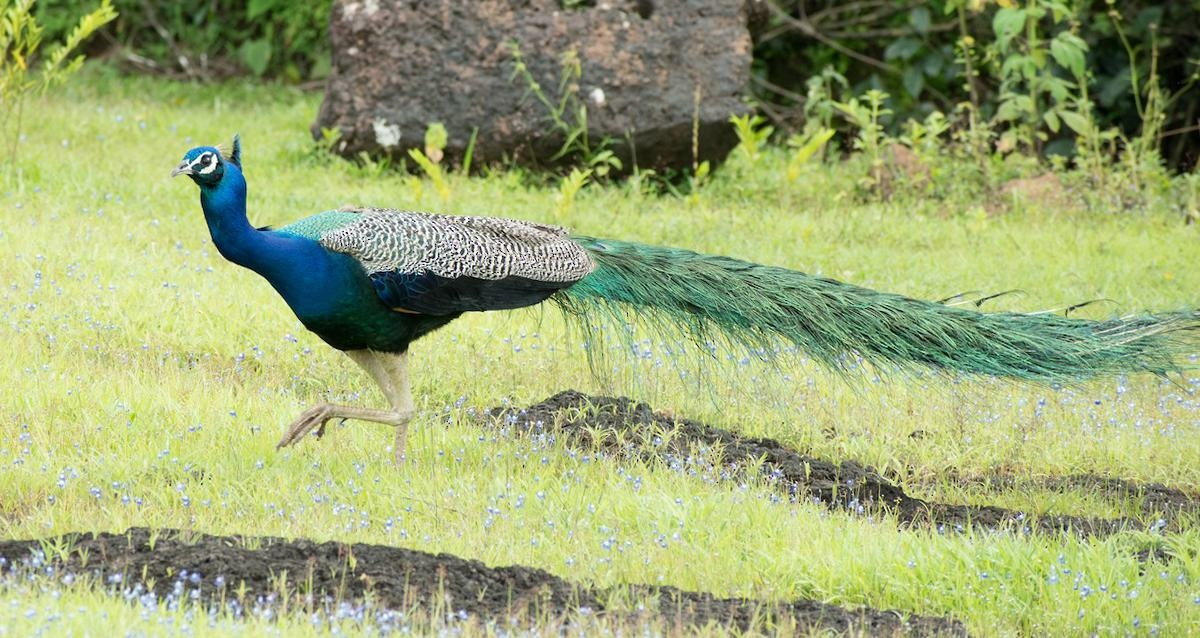peacock: (151, 111, 1195, 529)
